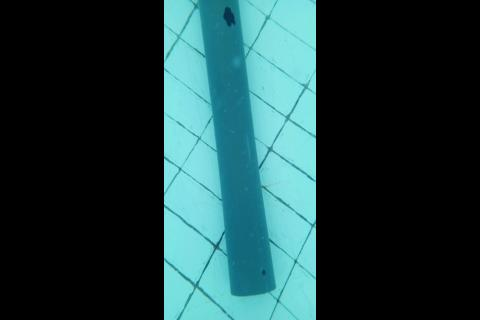kebocoran: (222, 6, 237, 28)
